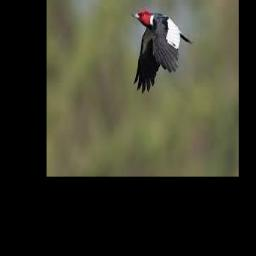Woodpecker: (131, 9, 194, 93)
